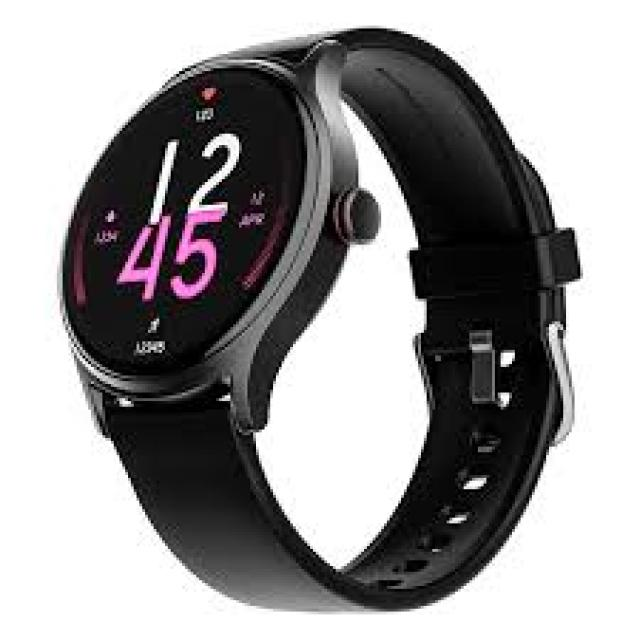objects: (63, 27, 577, 614)
